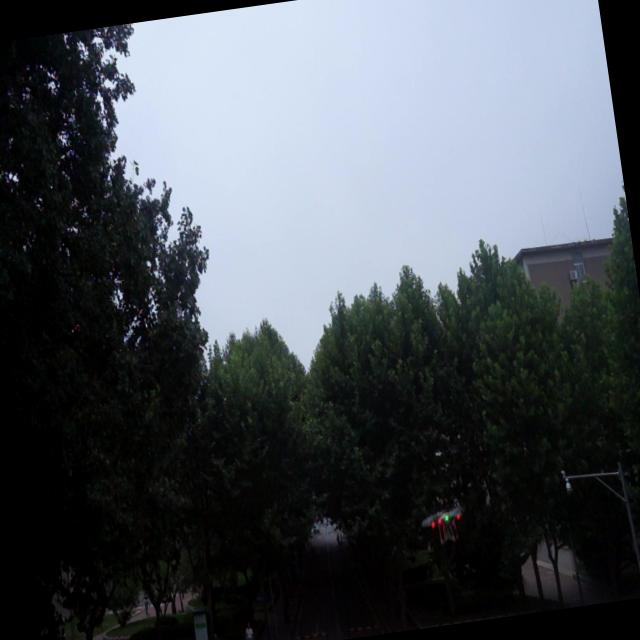drone: (418, 496, 472, 552)
